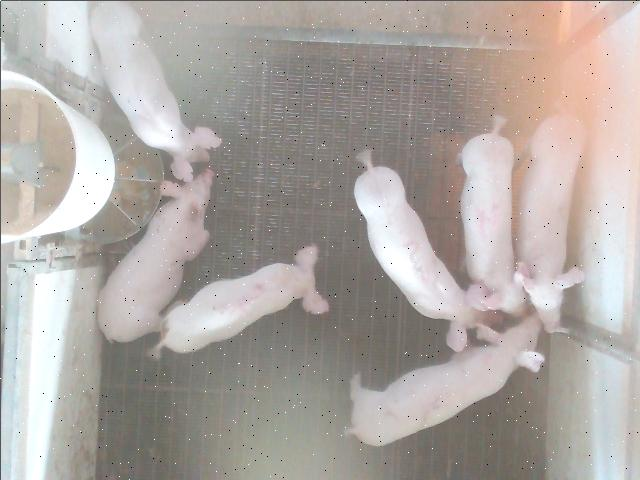pig-3: (354, 149, 475, 351)
pig-4: (460, 116, 525, 314)
pig-5: (146, 246, 328, 358)
